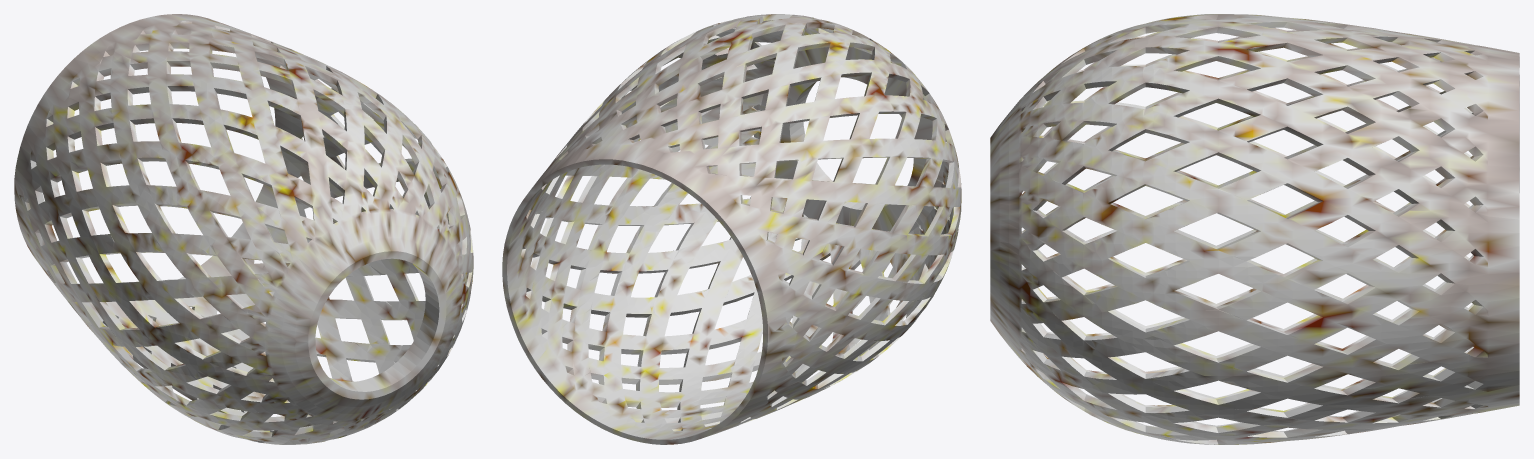
Rendered from lamp_shade_14_final400.obj.
3 renders of one model, left to right at view 1: azimuth 30°, elevation 25°; view 2: azimuth 150°, elevation 25°; view 3: azimuth 270°, elevation 25°, orthographic. The views are drawn at different scales.
Bounding box in the file's own units: 1.21 × 1.21 × 1.49.
